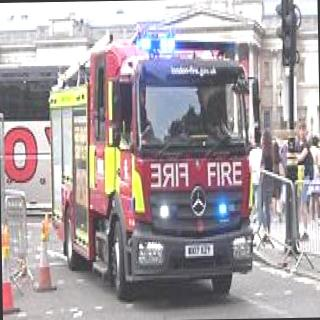Fire_truck: (45, 21, 257, 302)
